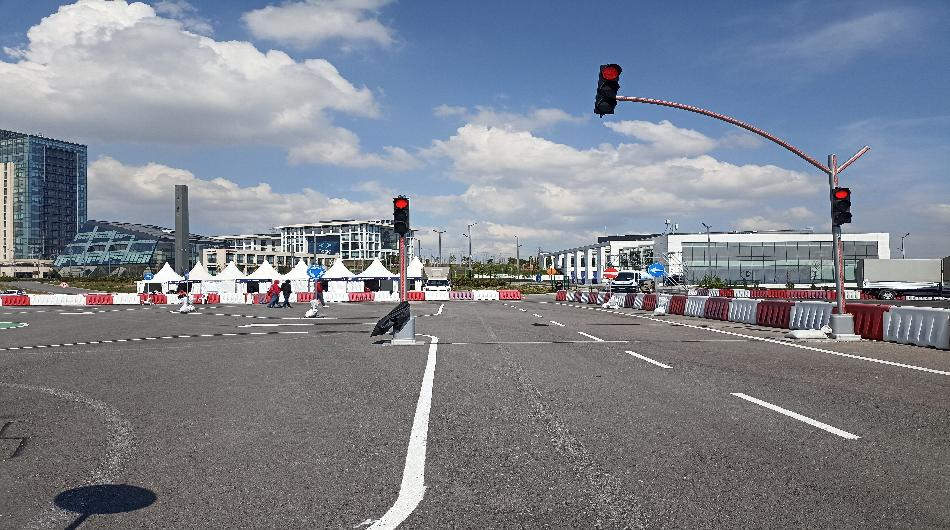red_light: (597, 63, 627, 124), (826, 188, 856, 229), (392, 195, 415, 234)
